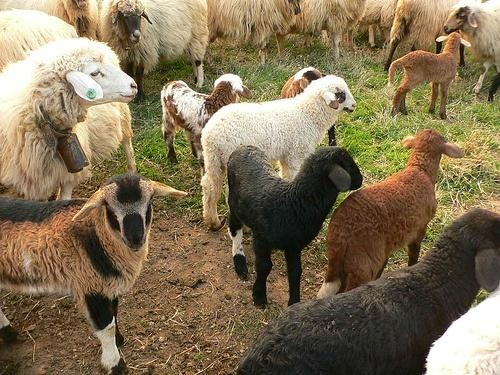sheep: (236, 209, 500, 375), (1, 176, 190, 375), (318, 128, 468, 300), (201, 74, 359, 233), (226, 143, 365, 311), (1, 38, 141, 200), (100, 1, 211, 91), (161, 73, 256, 166), (388, 32, 475, 120), (384, 1, 486, 72), (210, 1, 303, 63), (444, 5, 500, 96), (302, 1, 369, 61), (1, 1, 100, 39), (282, 66, 327, 99)
